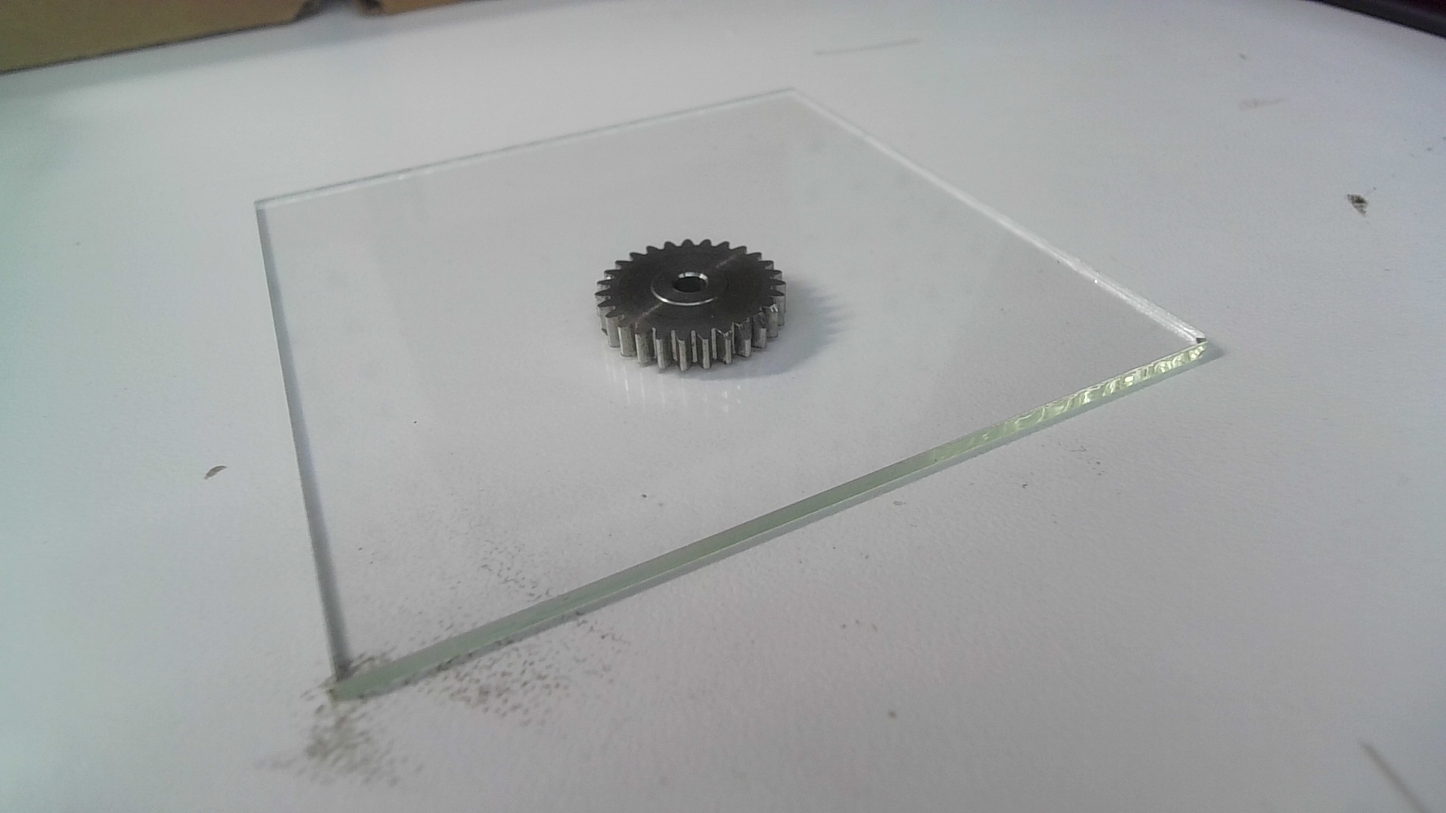gear: (591, 238, 792, 373)
